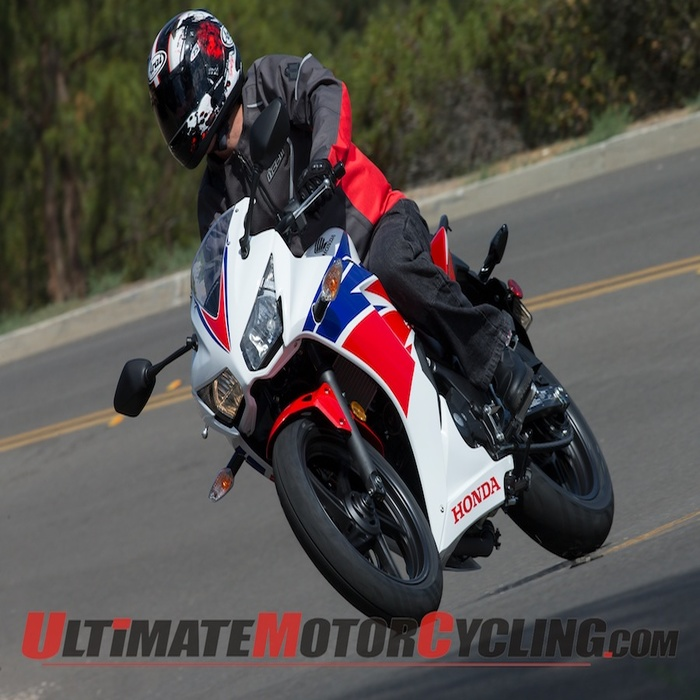h: (144, 8, 245, 170)
